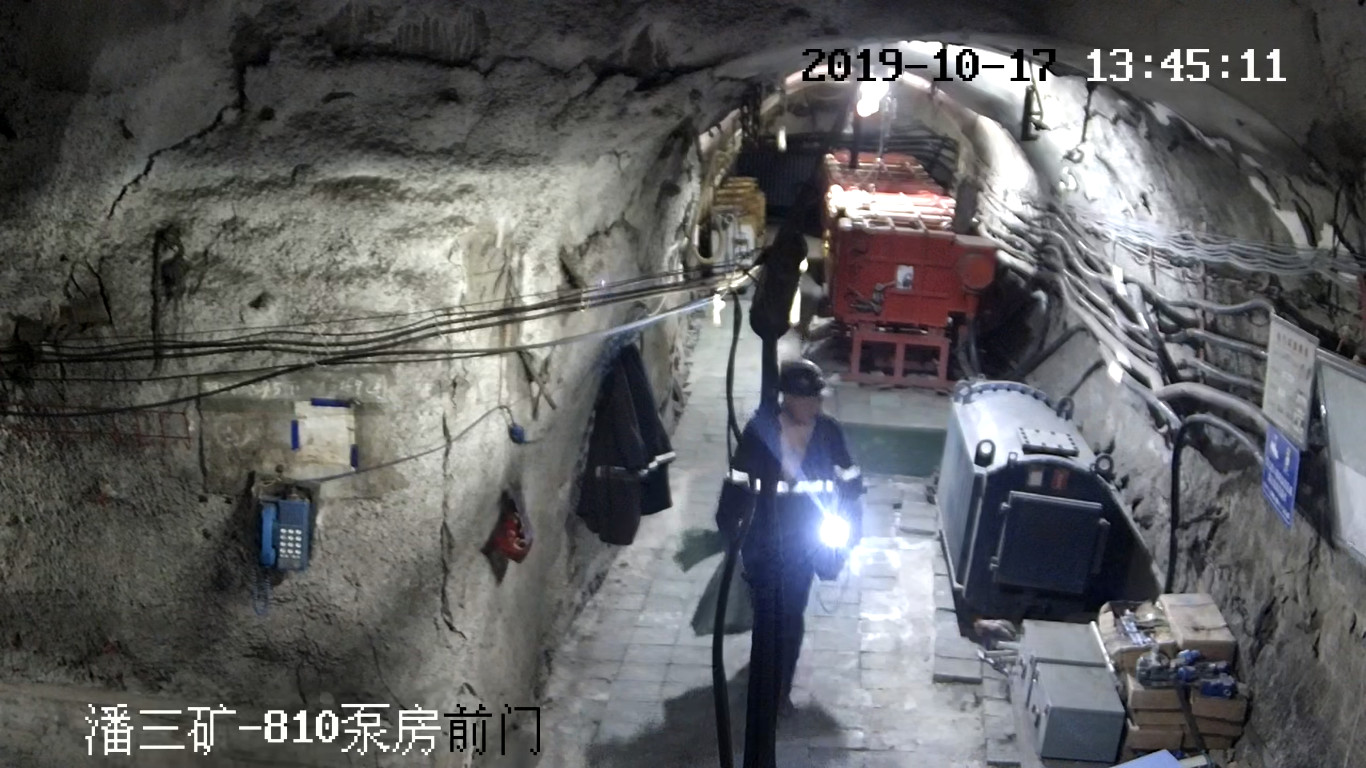helmet: (774, 356, 827, 396)
